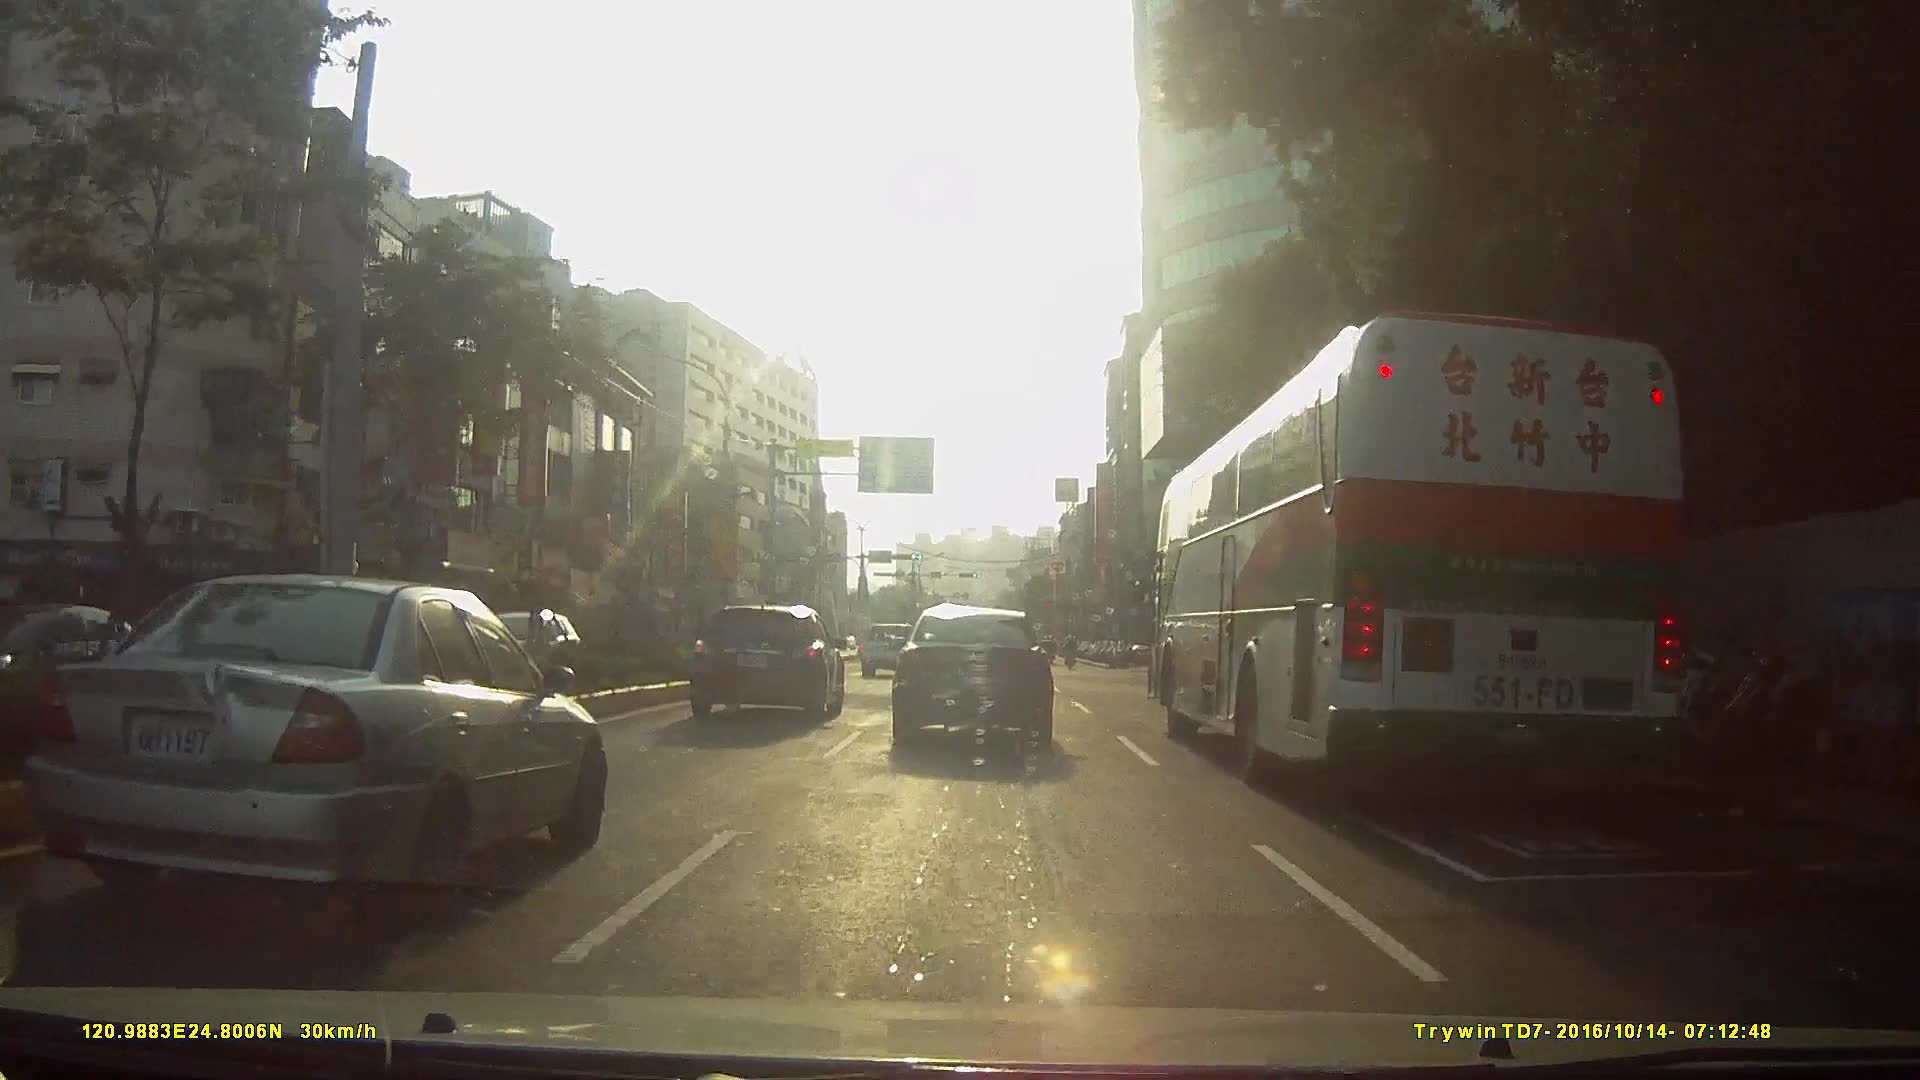vehicle: (1156, 281, 1739, 811), (12, 571, 605, 934), (889, 604, 1055, 752), (688, 607, 845, 725), (11, 607, 150, 729), (858, 625, 918, 683)
